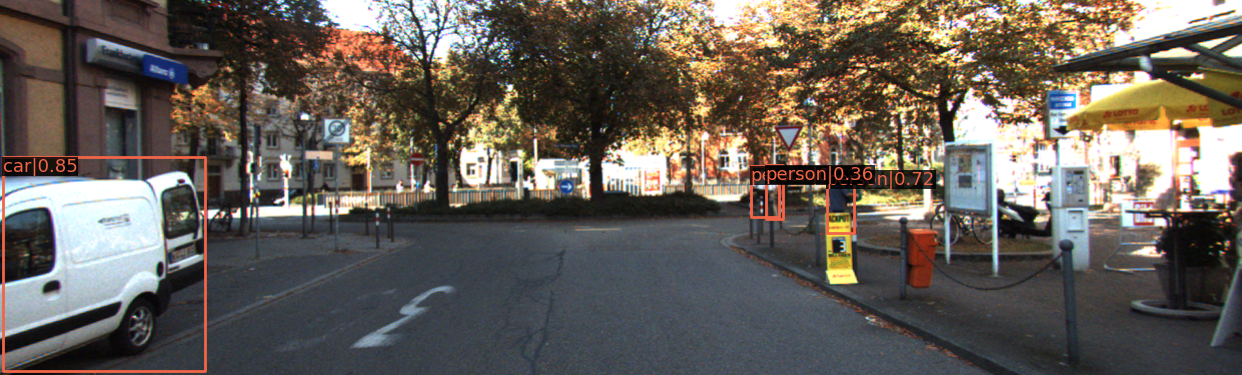car: (1, 165, 182, 375)
person: (826, 167, 863, 248), (752, 169, 773, 221), (767, 174, 783, 222)
